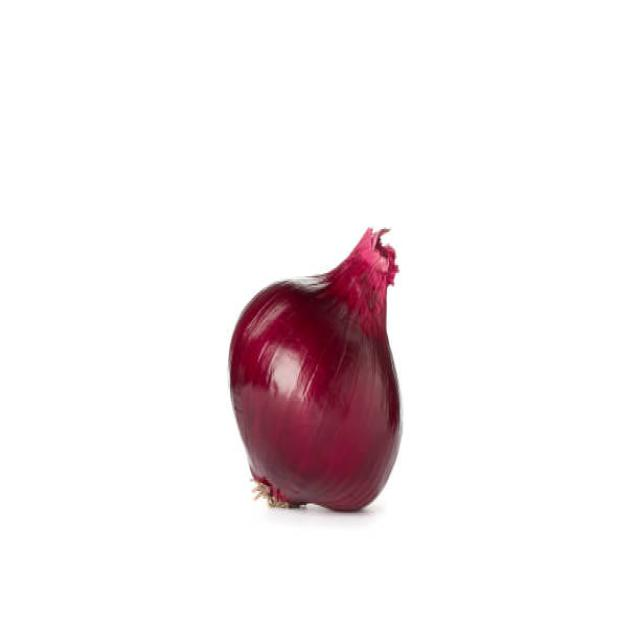onion: (222, 226, 420, 514)
